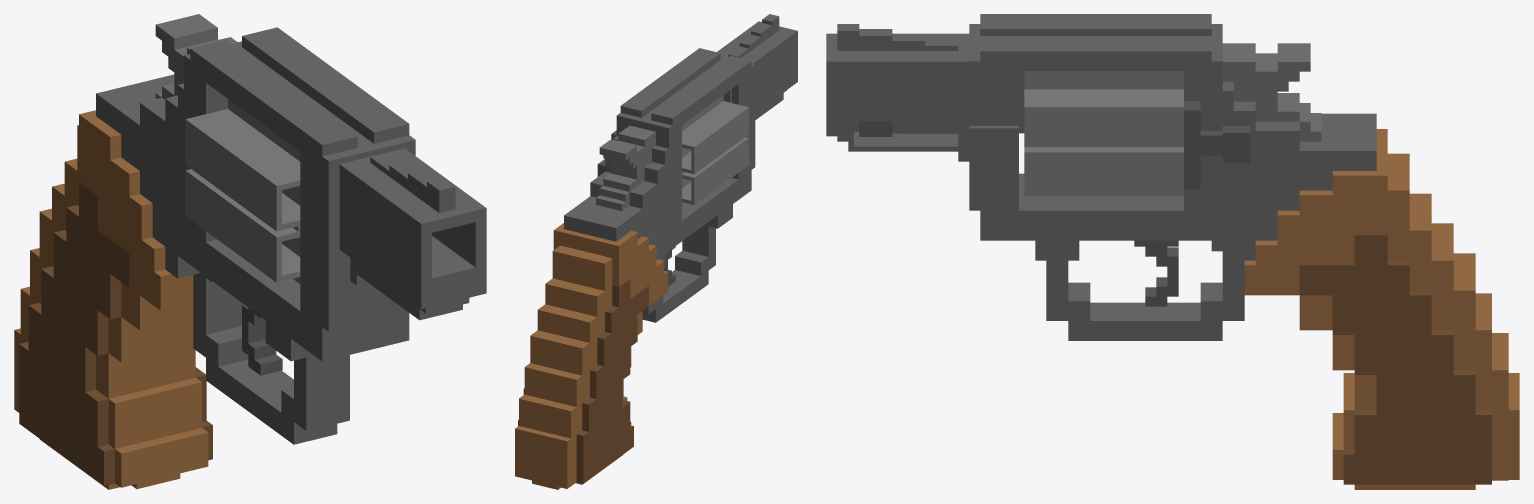
Rendered from detective_revolver.fbx.
3 renders of one model, left to right at view 1: azimuth 30°, elevation 25°; view 2: azimuth 150°, elevation 25°; view 3: azimuth 270°, elevation 25°, orthographic. The views are drawn at different scales.
Visible parts, largest first — view 1: detective_revolver_base, detective_revolver_cylinder, detective_revolver_hammer, detective_revolver_trigger; view 2: detective_revolver_base, detective_revolver_cylinder, detective_revolver_hammer; view 3: detective_revolver_base, detective_revolver_cylinder, detective_revolver_hammer, detective_revolver_crane, detective_revolver_release, detective_revolver_trigger, detective_revolver_ejector.
Boxes of the visible parts, bbox=[...] form: detective_revolver_base: bbox=[14, 27, 486, 489]; detective_revolver_cylinder: bbox=[185, 99, 300, 283]; detective_revolver_hammer: bbox=[149, 14, 237, 100]; detective_revolver_trigger: bbox=[242, 304, 282, 375]; detective_revolver_base: bbox=[515, 14, 797, 489]; detective_revolver_cylinder: bbox=[682, 95, 748, 204]; detective_revolver_hammer: bbox=[596, 125, 655, 210]; detective_revolver_base: bbox=[826, 14, 1519, 489]; detective_revolver_cylinder: bbox=[1024, 71, 1183, 196]; detective_revolver_hammer: bbox=[1222, 43, 1321, 141]; detective_revolver_crane: bbox=[958, 121, 1018, 240]; detective_revolver_release: bbox=[1184, 101, 1249, 189]; detective_revolver_trigger: bbox=[1134, 240, 1178, 306]; detective_revolver_ejector: bbox=[859, 121, 1024, 136].
Size of the model in its own units: 7.14 by 26.7 by 37.8.
